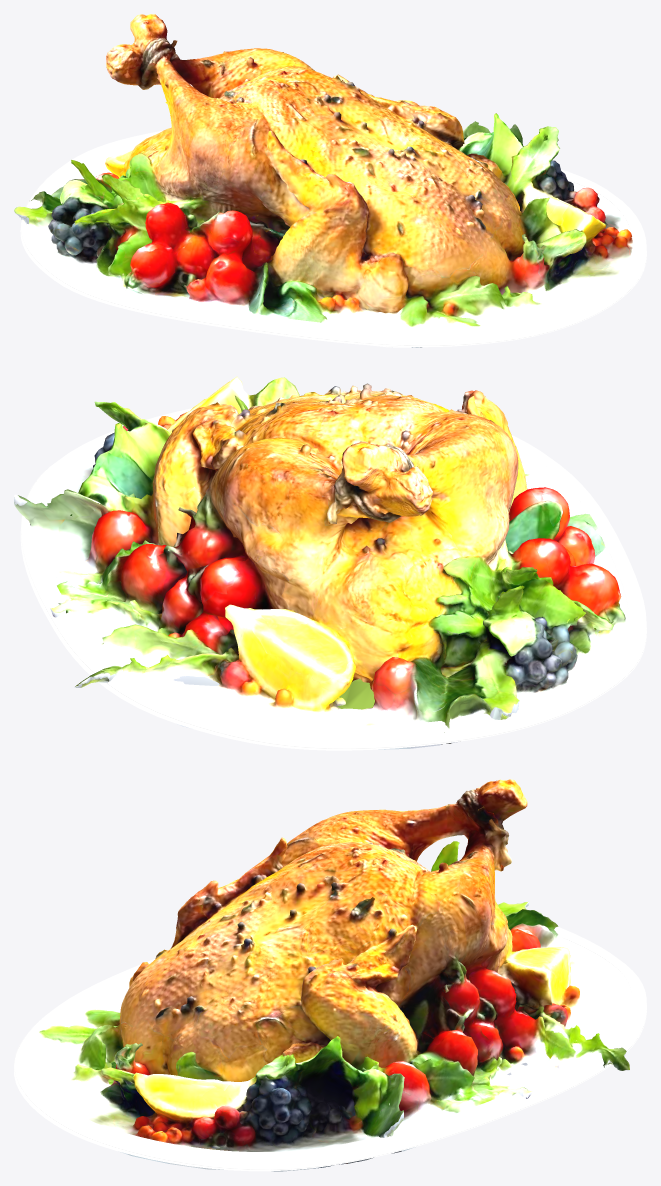
Rendered from pato-assado-mobile.glb.
3 renders of one model, top to bottom at view 1: azimuth 30°, elevation 25°; view 2: azimuth 150°, elevation 25°; view 3: azimuth 270°, elevation 25°, orthographic. The views are drawn at different scales.
Parts seen in each view (by area): view 1: Object_4, Object_5; view 2: Object_4, Object_5; view 3: Object_4, Object_5.
Boxes of the visible parts, bbox=[...] form: Object_4: bbox=[14, 14, 632, 347]; Object_5: bbox=[20, 130, 646, 347]; Object_4: bbox=[14, 376, 628, 749]; Object_5: bbox=[20, 408, 646, 750]; Object_4: bbox=[29, 779, 631, 1171]; Object_5: bbox=[14, 926, 646, 1171].
Size of the model in its own units: 0.2723 by 0.1005 by 0.2787.
Materials: 2 (1 with a texture image).
